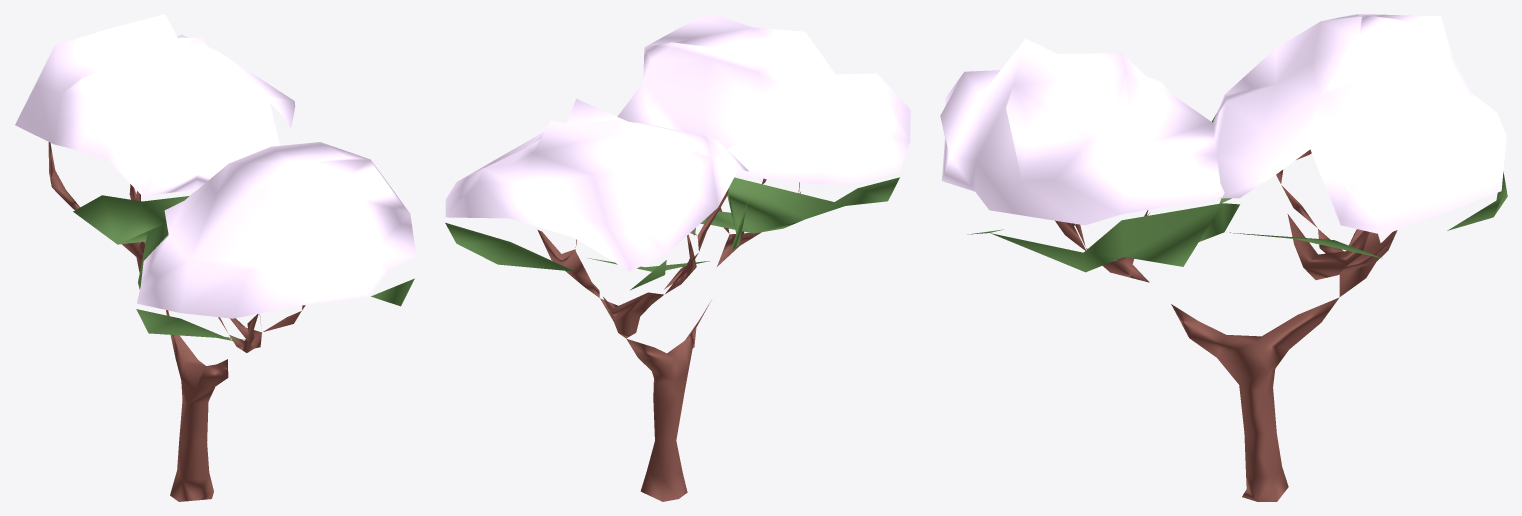
Rendered from CommonTree_Snow_1_lod.glb.
The picture shows the model from 3 angles, left to right: view 1: azimuth 30°, elevation 25°; view 2: azimuth 150°, elevation 25°; view 3: azimuth 270°, elevation 25°; orthographic projection. The views are drawn at different scales.
Parts seen in each view (by area): view 1: CommonTree_Snow_1; view 2: CommonTree_Snow_1; view 3: CommonTree_Snow_1.
Boxes of the visible parts, box(x1,y1,x2,y2) form: CommonTree_Snow_1: box(15, 14, 416, 501); CommonTree_Snow_1: box(445, 14, 910, 501); CommonTree_Snow_1: box(940, 14, 1507, 501).
Size of the model in its own units: 189 by 251 by 277.
